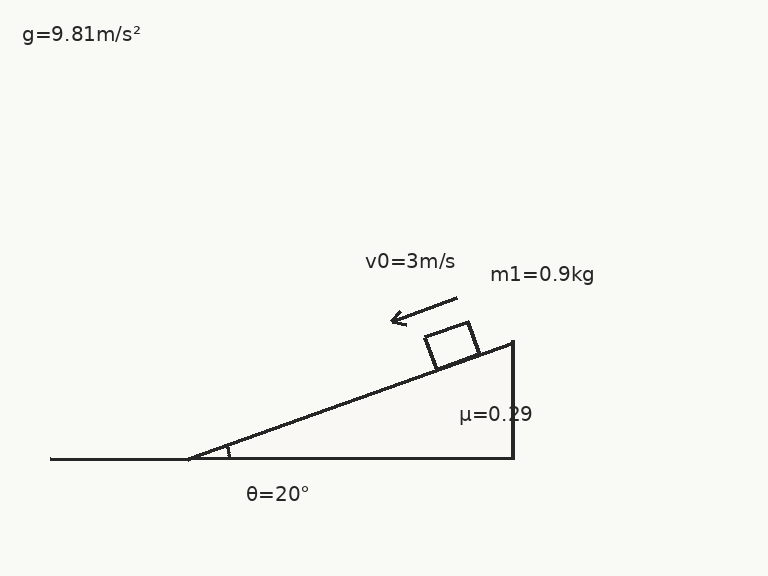block: (422, 319, 481, 371)
ramp: (187, 339, 514, 461)
